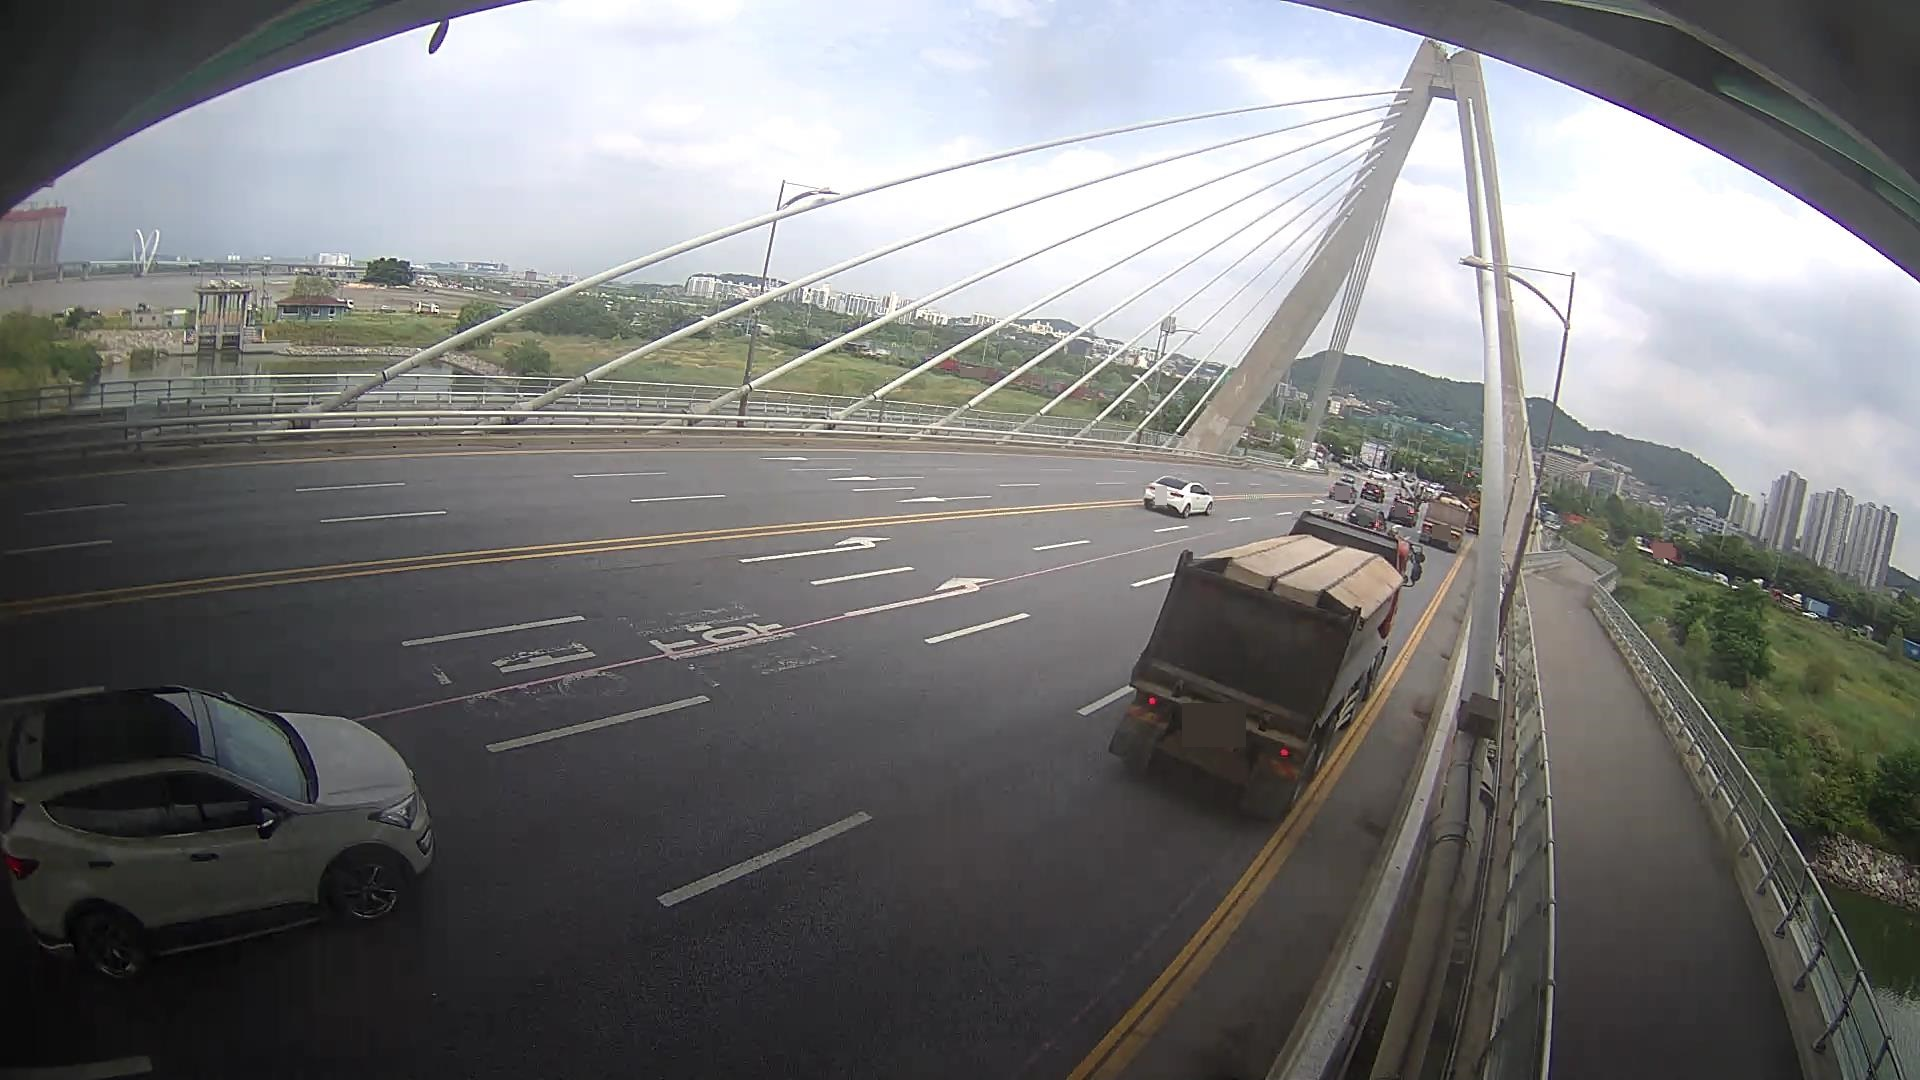정상차량: (1106, 509, 1425, 822)
